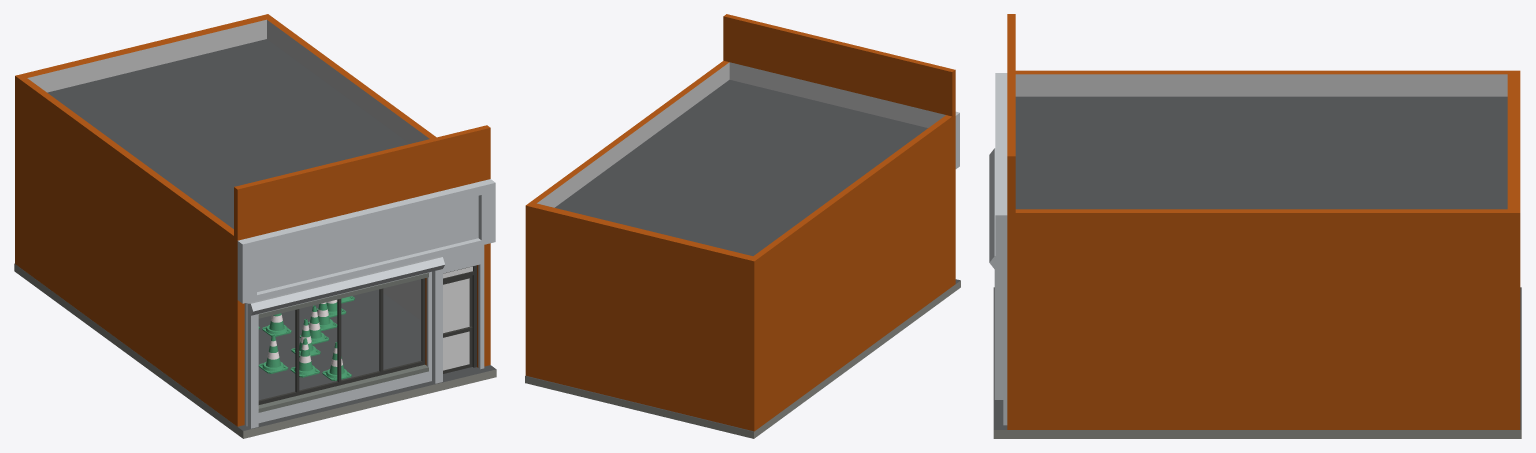
The model's file is Traffic Cone Interzone.fbx.
3 views of the same model, side by side, from view 1: azimuth 30°, elevation 25°; view 2: azimuth 150°, elevation 25°; view 3: azimuth 270°, elevation 25° (orthographic). The views are drawn at different scales.
Parts seen in each view (by area): view 1: Exterior.001, Floor.003, Cube.001, Store Closer.001, Floor.002, Floor/Staircase.002, Front Glass Door.000, Glass.007, Kraftwerk 2.002, Kraftwerk 2, Front Glass Door.005, Front Glass Door.002; view 2: Exterior.001, Floor.003, Floor/Staircase.002; view 3: Exterior.001, Floor.003, Floor/Staircase.002, Cube.001, Store Closer.001.
Boxes of the visible parts, <box> form: Exterior.001: <box>15,14,490,426</box>; Floor.003: <box>47,39,409,228</box>; Cube.001: <box>237,179,495,303</box>; Store Closer.001: <box>244,245,484,428</box>; Floor.002: <box>258,289,472,400</box>; Floor/Staircase.002: <box>14,263,496,438</box>; Front Glass Door.000: <box>258,278,425,404</box>; Glass.007: <box>443,278,469,370</box>; Kraftwerk 2.002: <box>258,334,351,381</box>; Kraftwerk 2: <box>291,296,354,357</box>; Front Glass Door.005: <box>443,275,472,373</box>; Front Glass Door.002: <box>443,265,476,367</box>; Exterior.001: <box>525,14,955,431</box>; Floor.003: <box>555,79,927,255</box>; Floor/Staircase.002: <box>525,279,960,438</box>; Exterior.001: <box>1007,14,1520,429</box>; Floor.003: <box>1015,96,1507,209</box>; Floor/Staircase.002: <box>993,287,1521,438</box>; Cube.001: <box>995,73,1007,283</box>; Store Closer.001: <box>989,148,1007,425</box>.
Bounding box in the file's own units: 685 × 633 × 1081.
